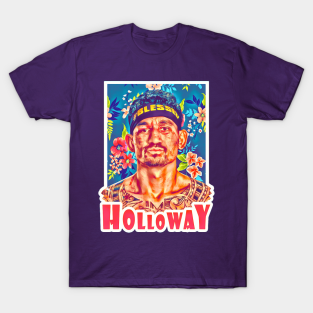design: (96, 78, 217, 235)
